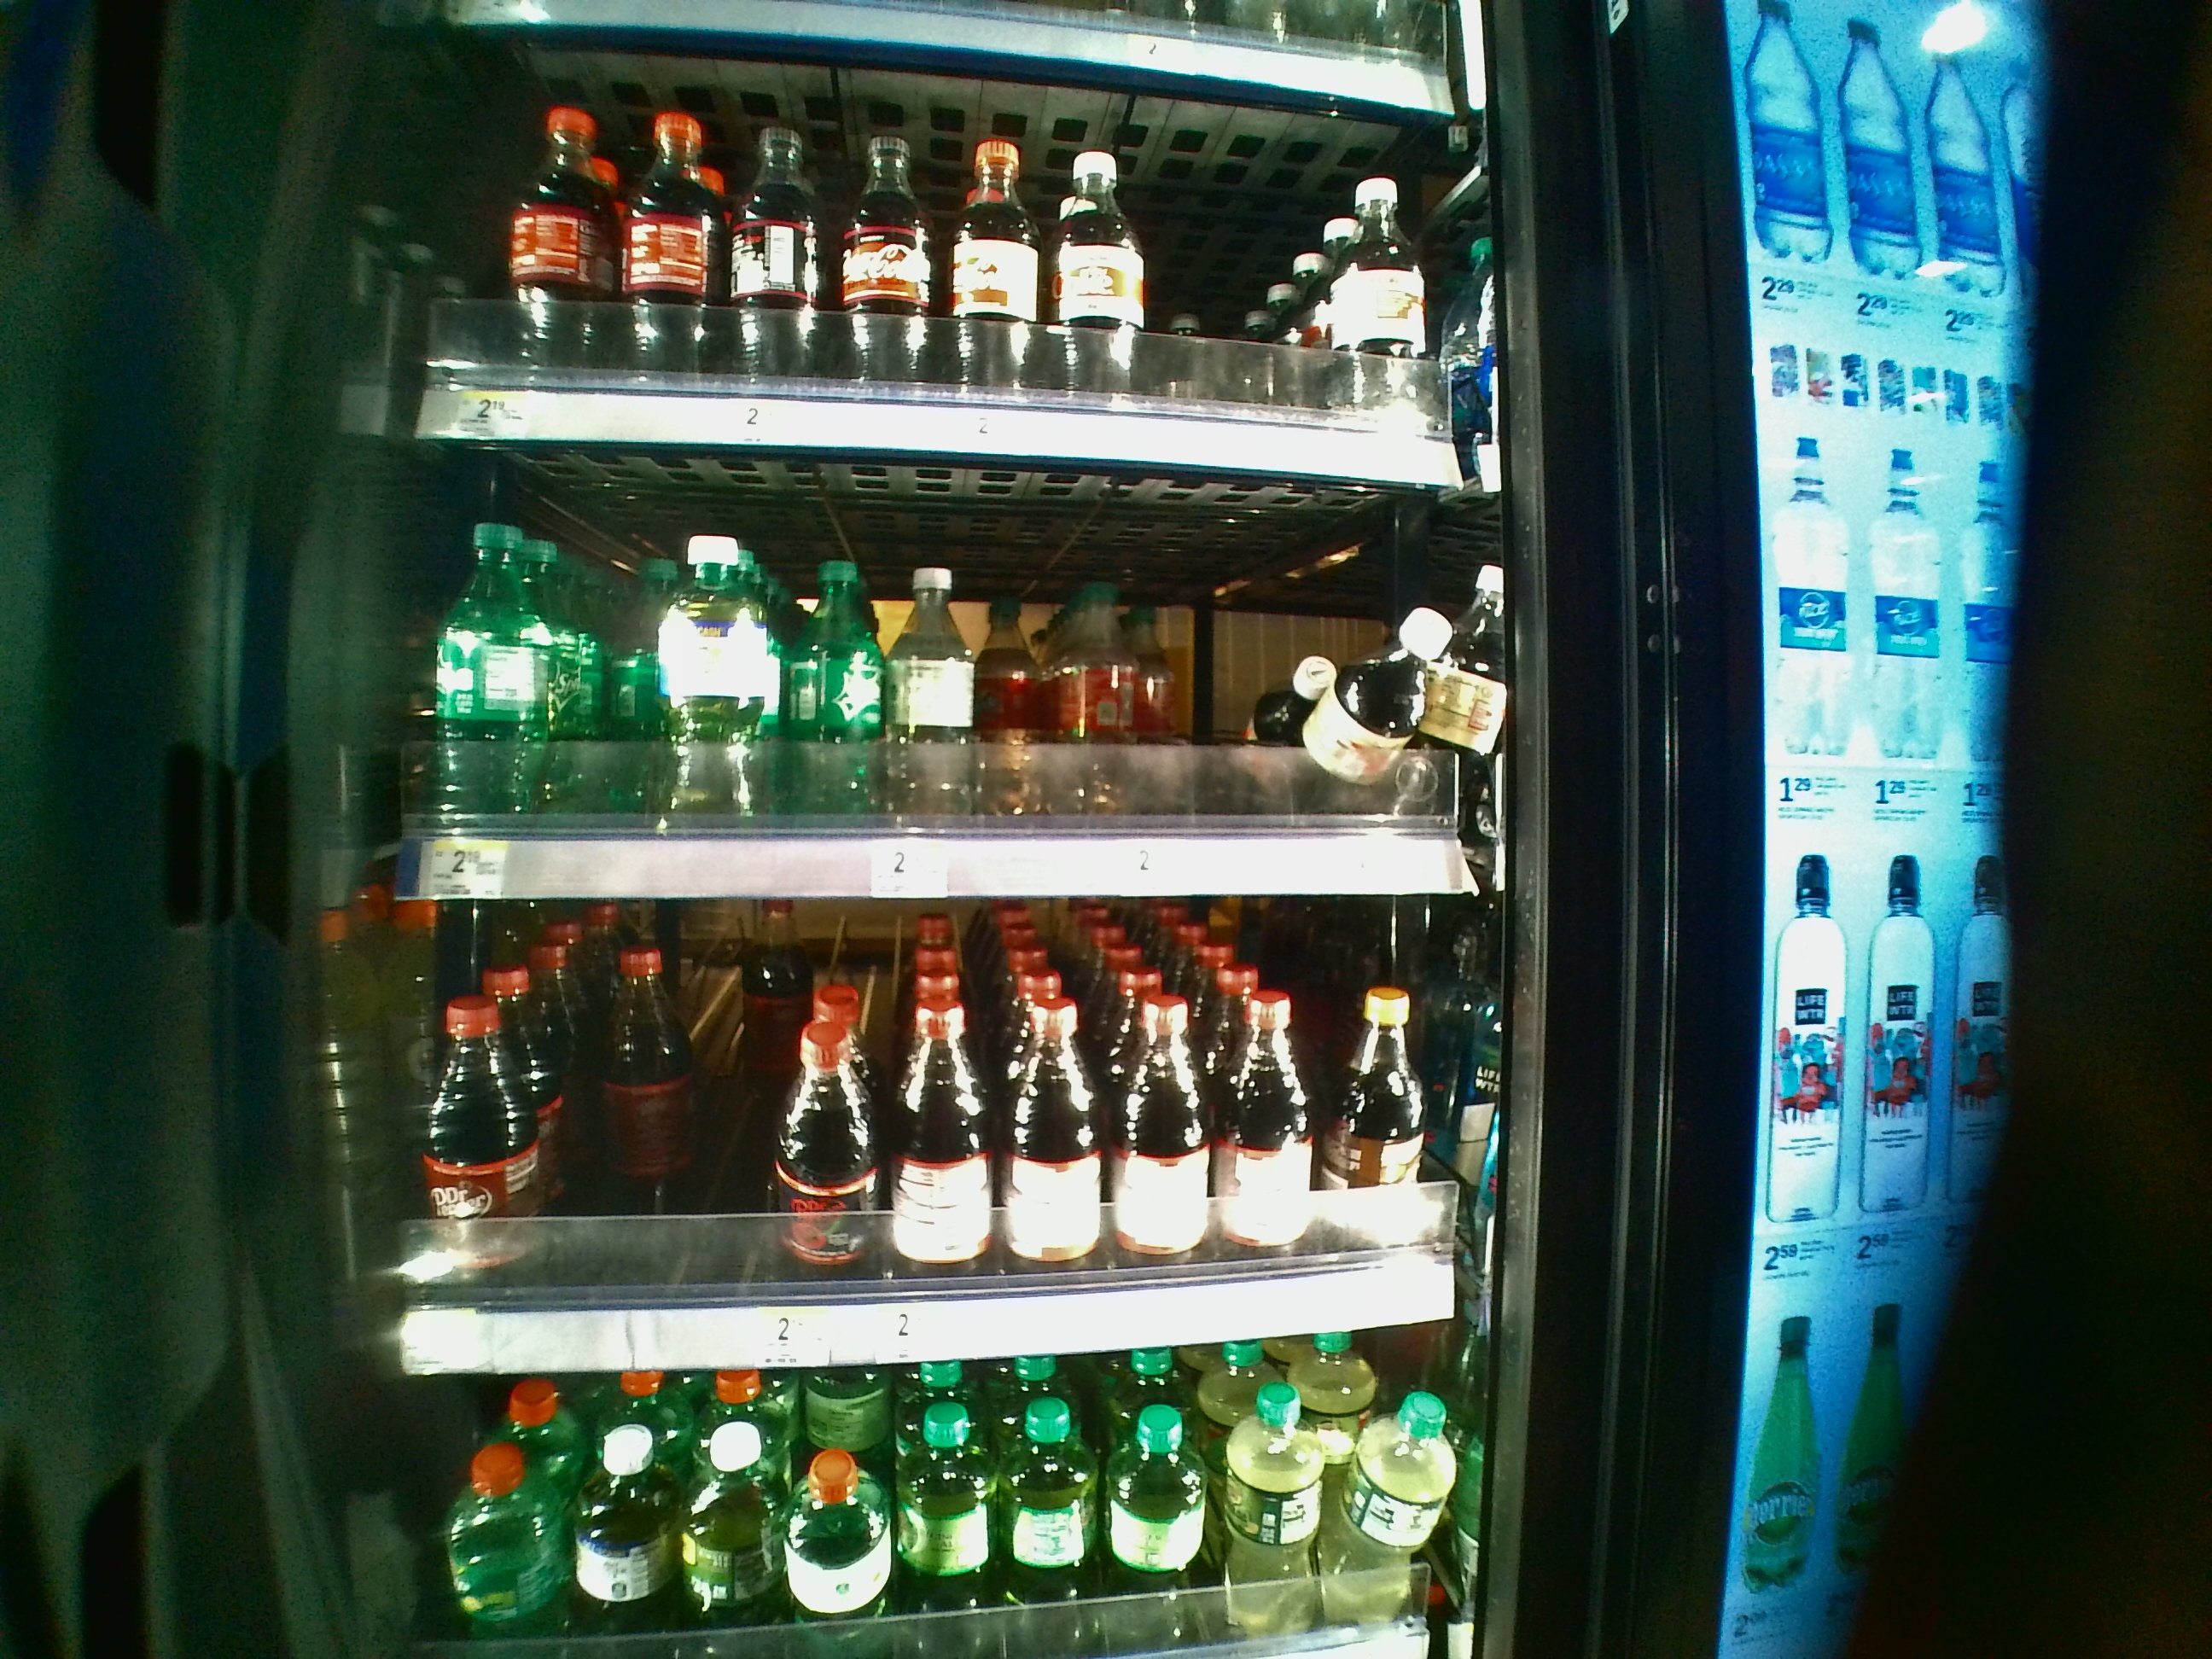shelf: (394, 910, 1489, 1371), (394, 457, 1479, 894)
